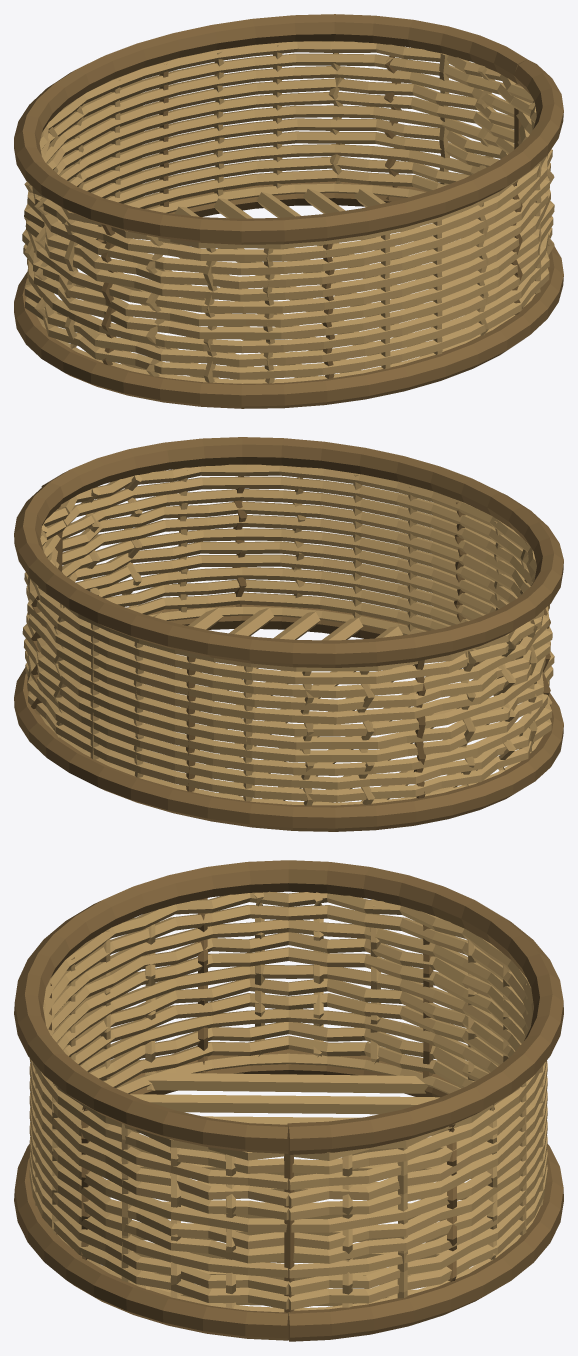
File: woven-store.glb
3 views of the same model, one above another, from view 1: azimuth 30°, elevation 25°; view 2: azimuth 150°, elevation 25°; view 3: azimuth 270°, elevation 25° (orthographic). The views are drawn at different scales.
Parts seen in each view (by area): view 1: woven store nest; view 2: woven store nest; view 3: woven store nest.
Part boxes in pixels (left/top/right/bottom): woven store nest: left=14, top=14, right=563, bottom=408; woven store nest: left=14, top=437, right=563, bottom=831; woven store nest: left=14, top=860, right=563, bottom=1341.
Size of the model in its own units: 1.67 by 0.6123 by 1.41.
